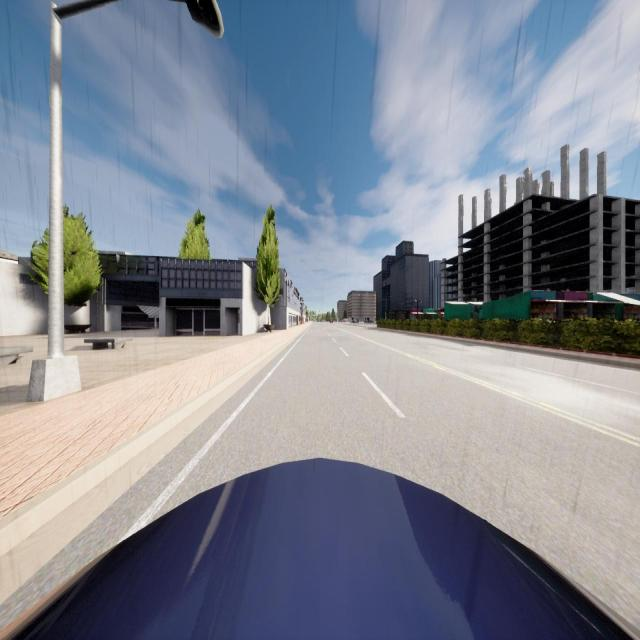Vehicle: (0, 459, 640, 640), (350, 318, 359, 324), (364, 320, 375, 324), (330, 320, 333, 324)
